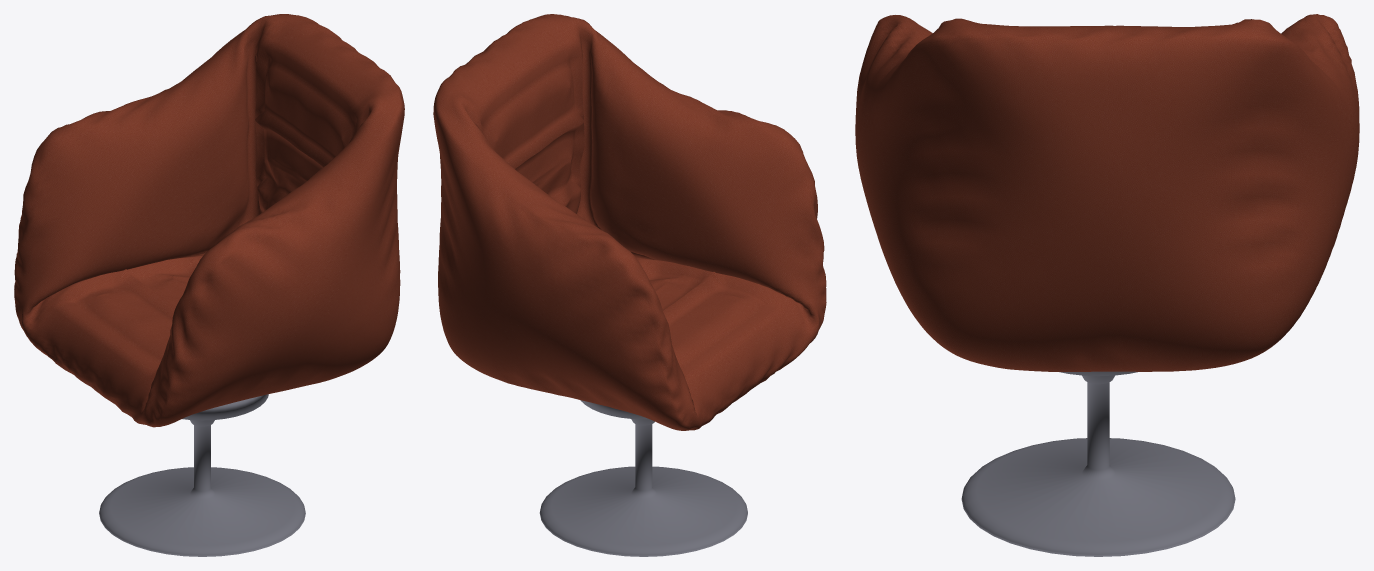
Rendered from Chair.glb.
3 renders of one model, left to right at view 1: azimuth 30°, elevation 25°; view 2: azimuth 150°, elevation 25°; view 3: azimuth 270°, elevation 25°, orthographic. The views are drawn at different scales.
Parts seen in each view (by area): view 1: Cube_0, Cube.001_1; view 2: Cube_0, Cube.001_1; view 3: Cube_0, Cube.001_1.
Part boxes in pixels (x1,y1,x2,y2): Cube_0: (14,14,404,427); Cube.001_1: (99,394,305,556); Cube_0: (433,14,826,430); Cube.001_1: (539,400,747,556); Cube_0: (855,14,1359,371); Cube.001_1: (961,371,1235,556).
Size of what is drawn, in the model's own units: 2.13 by 2.95 by 2.39.
2 materials, 1 textured.
